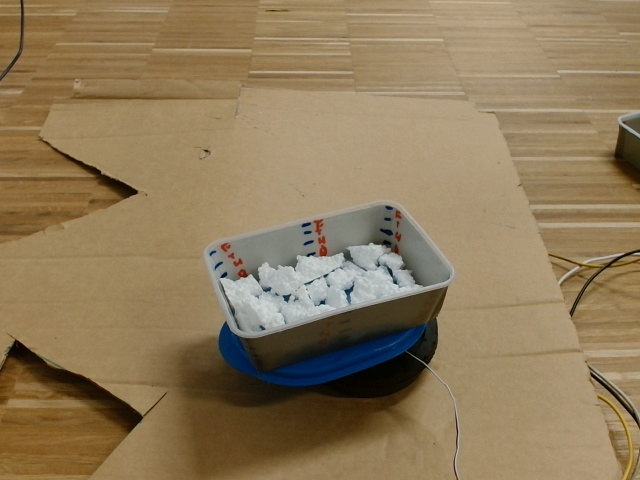Small_quarter: (208, 203, 455, 338)
